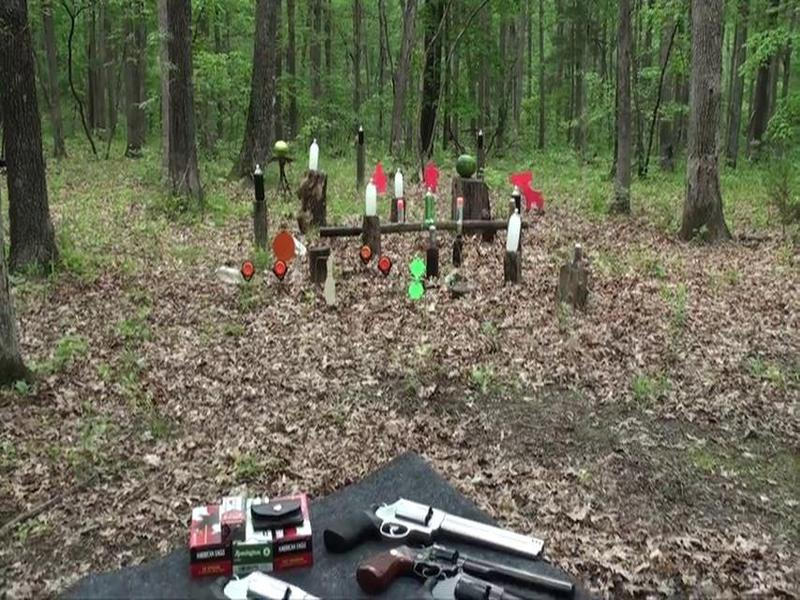Revolver: (309, 480, 556, 565)
